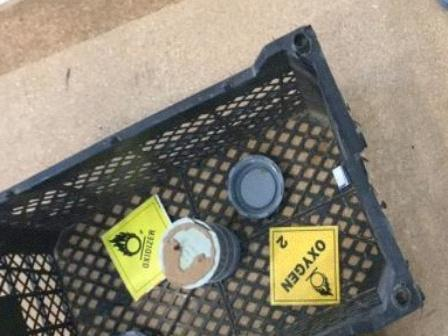oxidizer: (99, 194, 181, 296), (269, 225, 339, 303)
